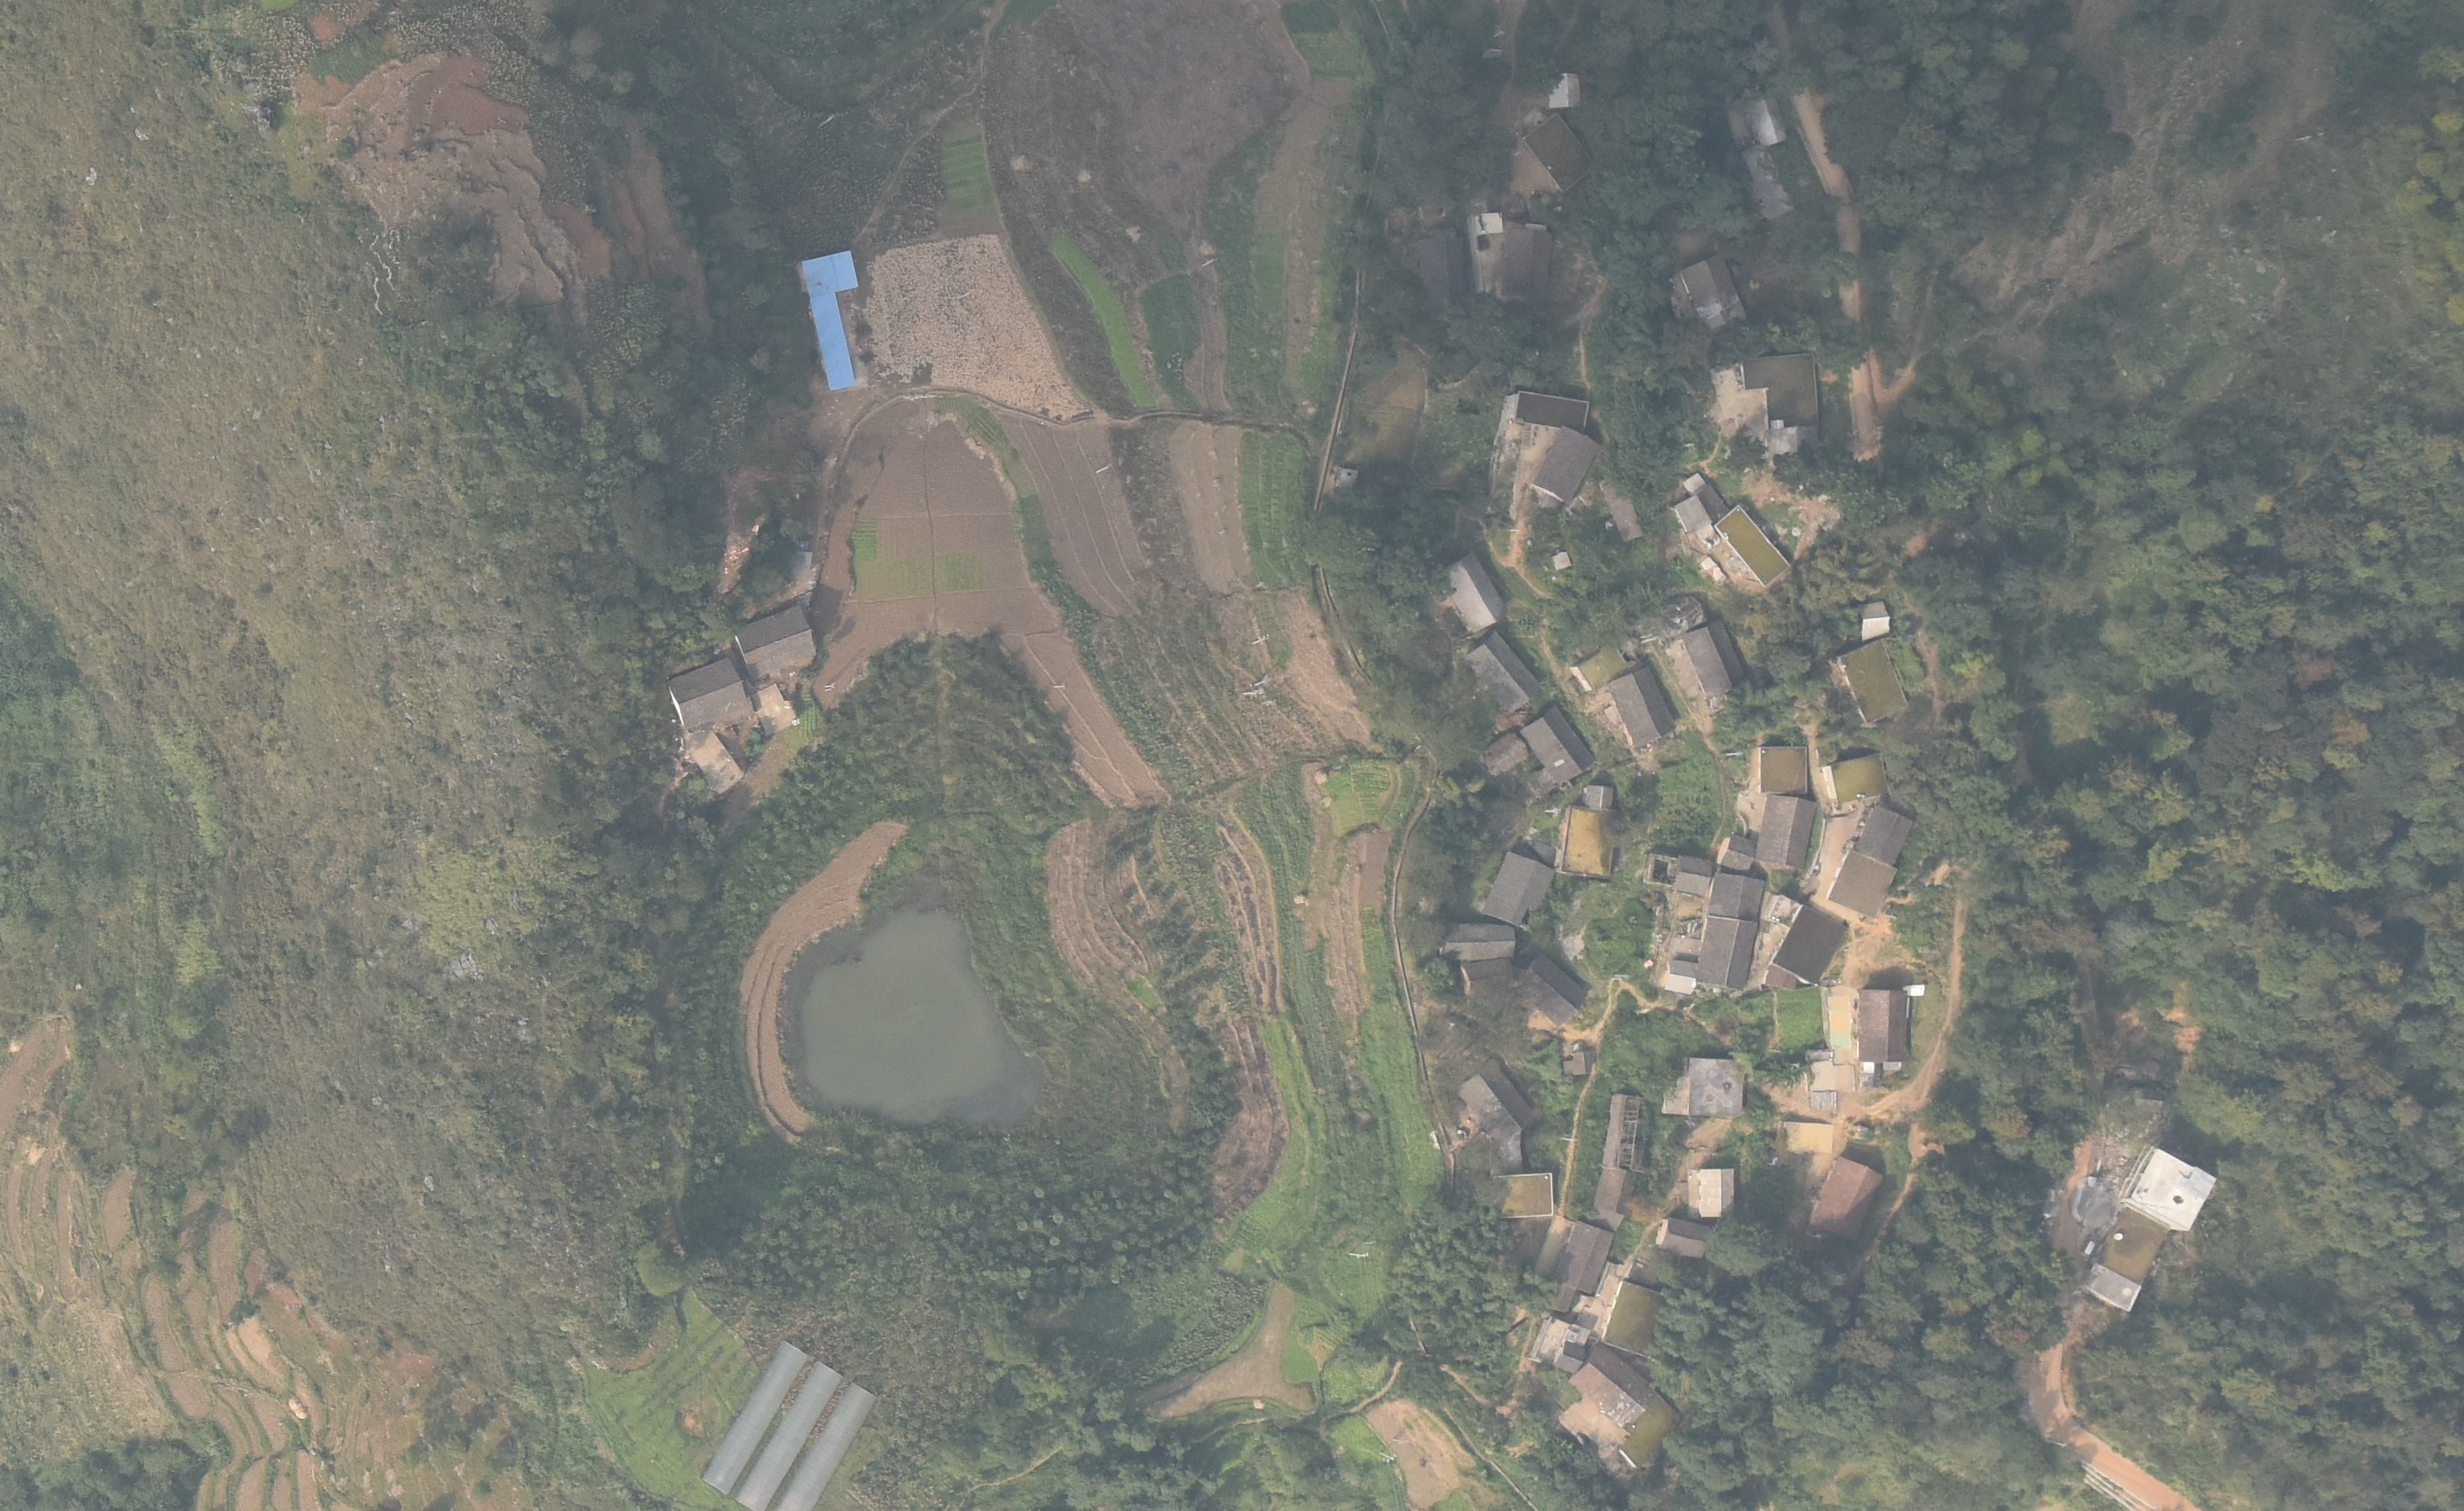building: (737, 1361, 871, 1504), (778, 1383, 917, 1507), (706, 1342, 810, 1495), (2119, 1145, 2216, 1237), (1464, 628, 1545, 714), (1573, 1344, 1654, 1427), (1473, 213, 1551, 297), (1716, 505, 1792, 588), (1739, 352, 1820, 427), (1522, 113, 1596, 193), (1809, 1157, 1881, 1240), (665, 658, 750, 728), (1769, 908, 1844, 985), (1459, 1059, 1533, 1138), (1612, 665, 1679, 749), (1836, 642, 1906, 719), (736, 605, 815, 674), (1484, 851, 1552, 931), (1521, 707, 1593, 781), (1529, 427, 1598, 503), (1683, 621, 1746, 702), (1600, 1281, 1663, 1360), (1753, 793, 1816, 869), (1517, 957, 1588, 1024), (1445, 551, 1503, 631), (1829, 850, 1897, 916), (1683, 253, 1744, 327), (1554, 1223, 1612, 1298), (1554, 807, 1614, 880), (1697, 915, 1755, 989), (1855, 990, 1910, 1064), (1413, 236, 1470, 304), (683, 730, 744, 790), (1744, 148, 1795, 220), (1686, 1055, 1744, 1119), (1857, 807, 1915, 864), (1603, 1094, 1646, 1170), (1510, 392, 1588, 433), (1674, 473, 1723, 535), (2077, 1261, 2140, 1309), (1491, 1173, 1554, 1217), (1827, 755, 1887, 800), (1441, 923, 1515, 960), (1756, 744, 1808, 793), (1602, 478, 1642, 540), (1656, 1217, 1711, 1259), (1461, 957, 1515, 996), (752, 683, 794, 732), (1711, 874, 1760, 916), (1783, 1119, 1832, 1157), (1484, 732, 1528, 774), (1595, 1170, 1635, 1215), (1751, 97, 1786, 146), (1698, 1170, 1735, 1215), (1674, 855, 1711, 894), (1860, 600, 1896, 639), (1718, 836, 1755, 871), (1547, 72, 1584, 107), (1769, 427, 1816, 452), (1554, 1342, 1588, 1372), (1665, 959, 1695, 990), (1580, 786, 1616, 811), (1563, 1052, 1598, 1075), (1762, 967, 1795, 990), (1549, 1286, 1572, 1312), (825, 683, 836, 690)
cable-tower: (1378, 1451, 1396, 1464), (1255, 675, 1274, 686), (1544, 807, 1559, 820), (1200, 257, 1218, 267), (1251, 635, 1271, 644), (1244, 688, 1264, 697), (1350, 1252, 1368, 1259), (1262, 700, 1276, 707), (1394, 1439, 1408, 1446), (1054, 683, 1067, 690)
pool: (788, 904, 1045, 1128)
prefabricated-house: (801, 248, 861, 391)
vehicle: (2082, 1240, 2094, 1256)
